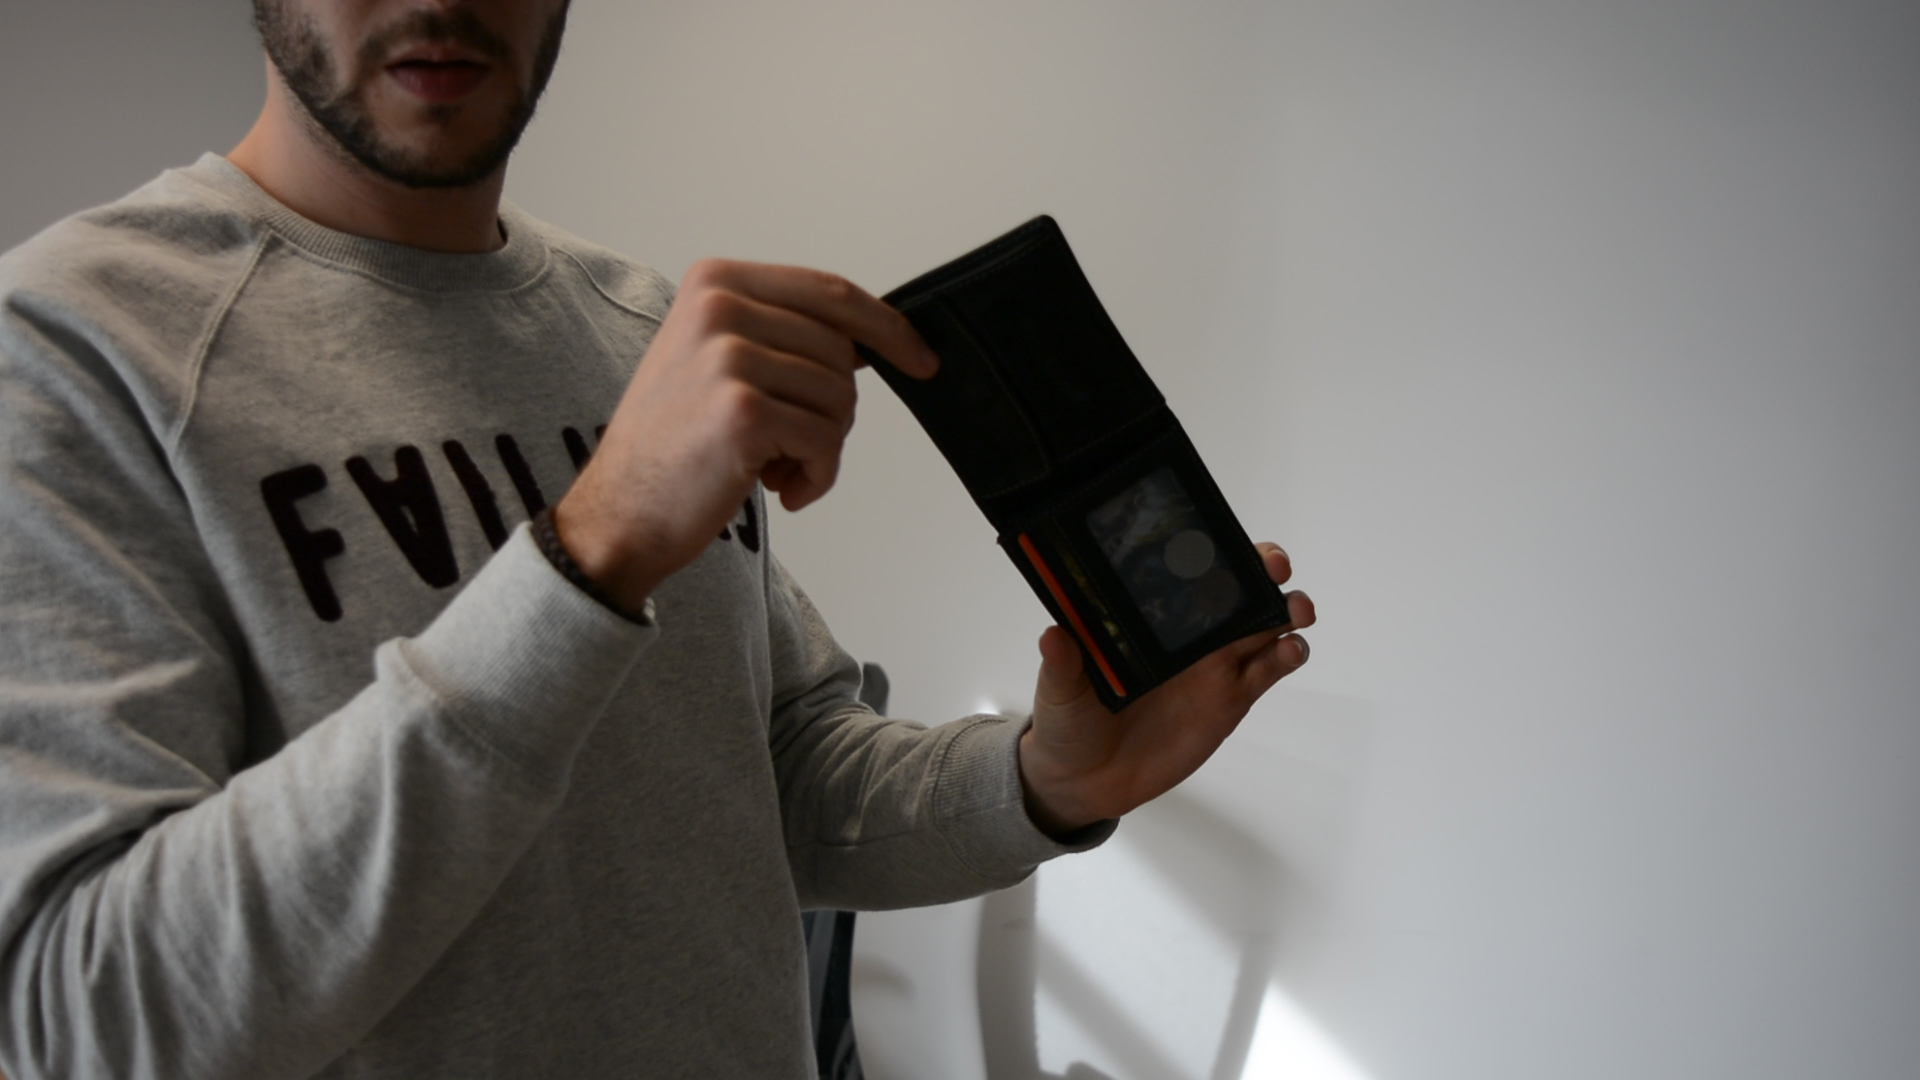monedero: (847, 211, 1295, 717)
